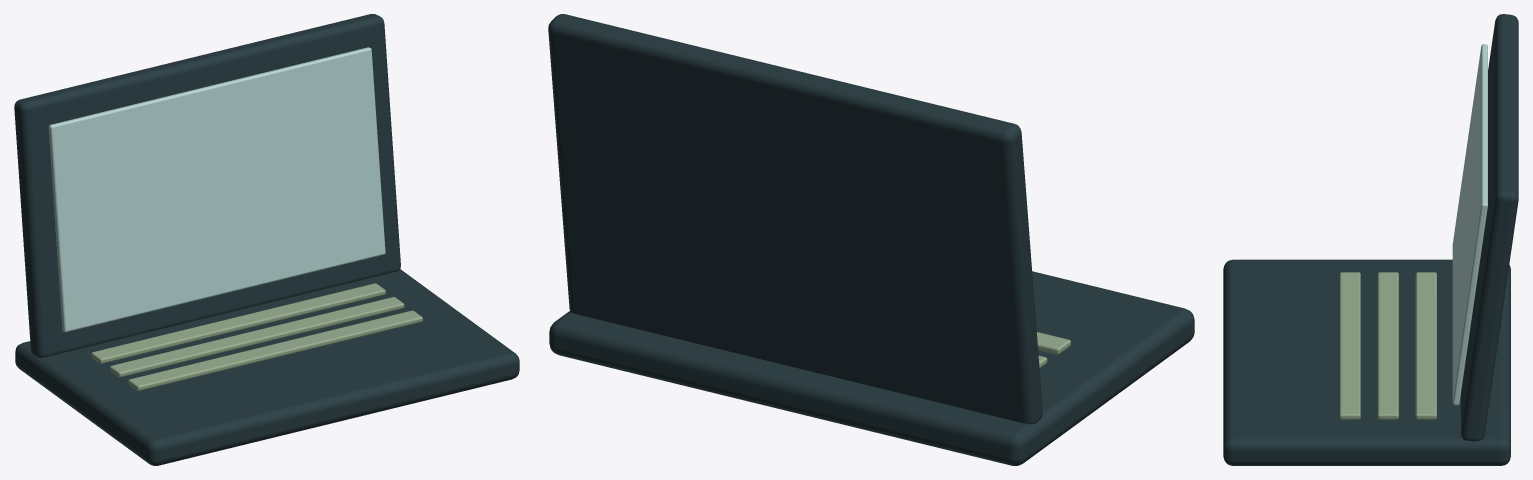
The model's file is laptop.glb.
3 renders of one model, left to right at view 1: azimuth 30°, elevation 25°; view 2: azimuth 150°, elevation 25°; view 3: azimuth 270°, elevation 25°, orthographic. The views are drawn at different scales.
Parts seen in each view (by area): view 1: screen, keyboard-base, display-shell, key-row (×3); view 2: display-shell, keyboard-base; view 3: keyboard-base, display-shell, key-row (×3), screen.
Part boxes in pixels (bbox=[...]): screen: bbox=[48, 47, 385, 332]; keyboard-base: bbox=[15, 269, 519, 465]; display-shell: bbox=[14, 14, 400, 357]; key-row (×3): bbox=[91, 283, 422, 390]; display-shell: bbox=[548, 14, 1042, 424]; keyboard-base: bbox=[549, 271, 1194, 465]; keyboard-base: bbox=[1223, 259, 1510, 465]; display-shell: bbox=[1461, 14, 1518, 441]; key-row (×3): bbox=[1339, 272, 1436, 419]; screen: bbox=[1452, 44, 1487, 405].
Bounding box in the file's own units: 0.52 × 0.3567 × 0.3491.
